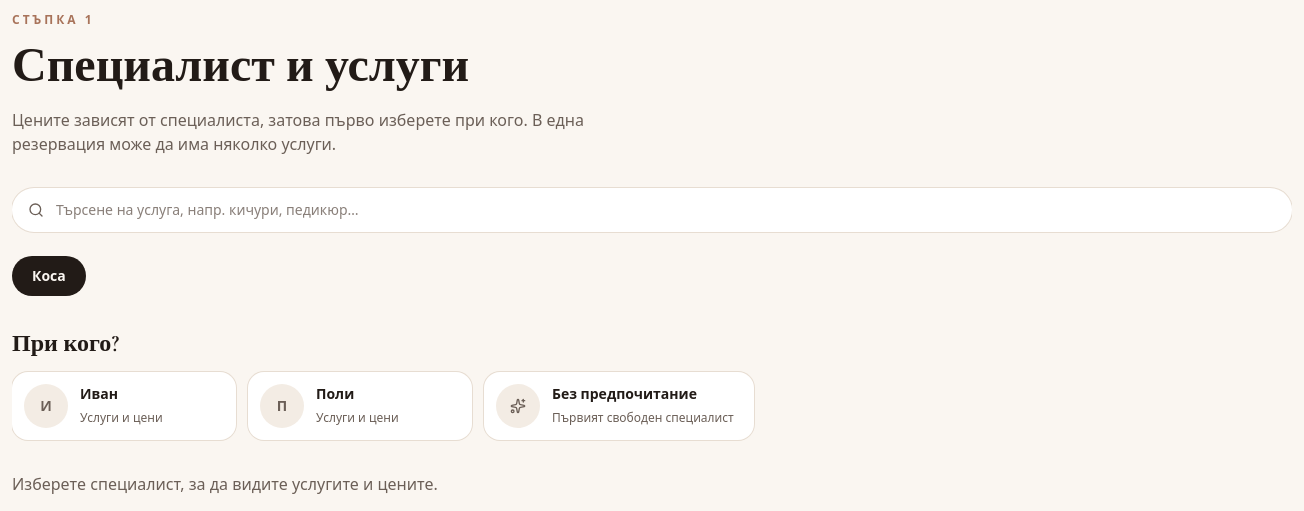
Test: ServicesStep › opens every matching group while searching
The width and height of the screenshot is (1304, 511).
Type "корени" into the search field. click: (652, 210)
box: [12,188,1292,232]
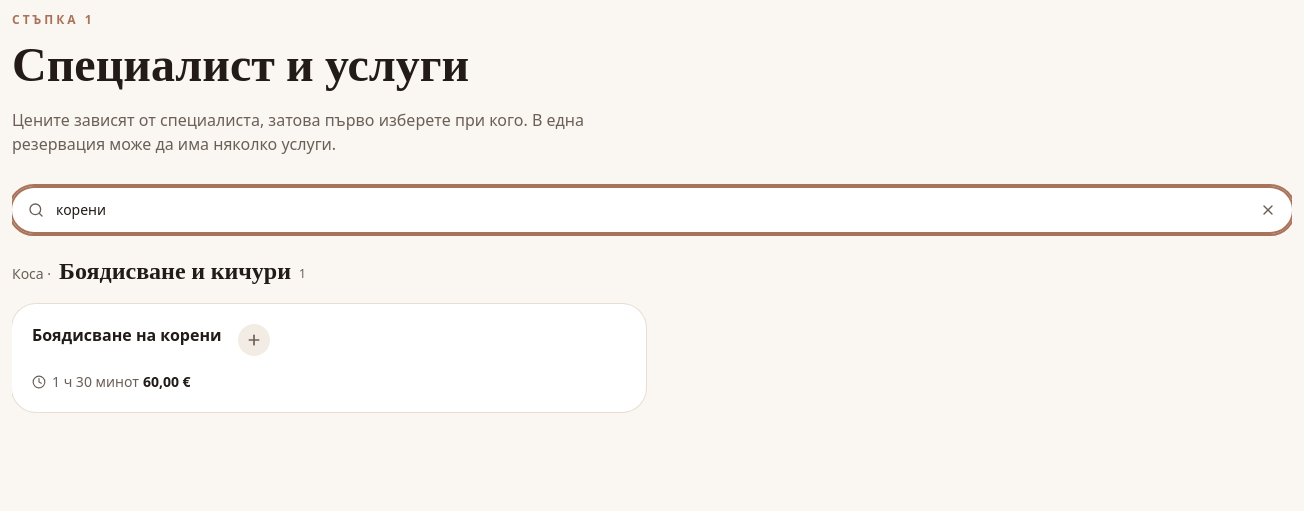
Check: the button "Боядисване на корени 1 ч 30 мин от60,00 €" is shown, box [12,304,646,412]
